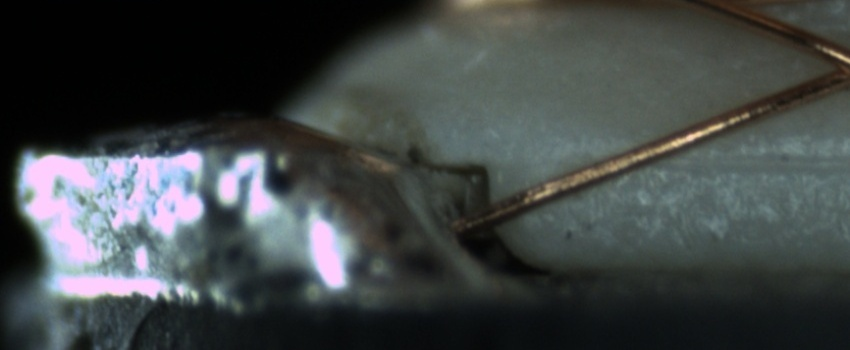CL: (802, 31, 848, 97)
DL: (560, 124, 849, 190)
